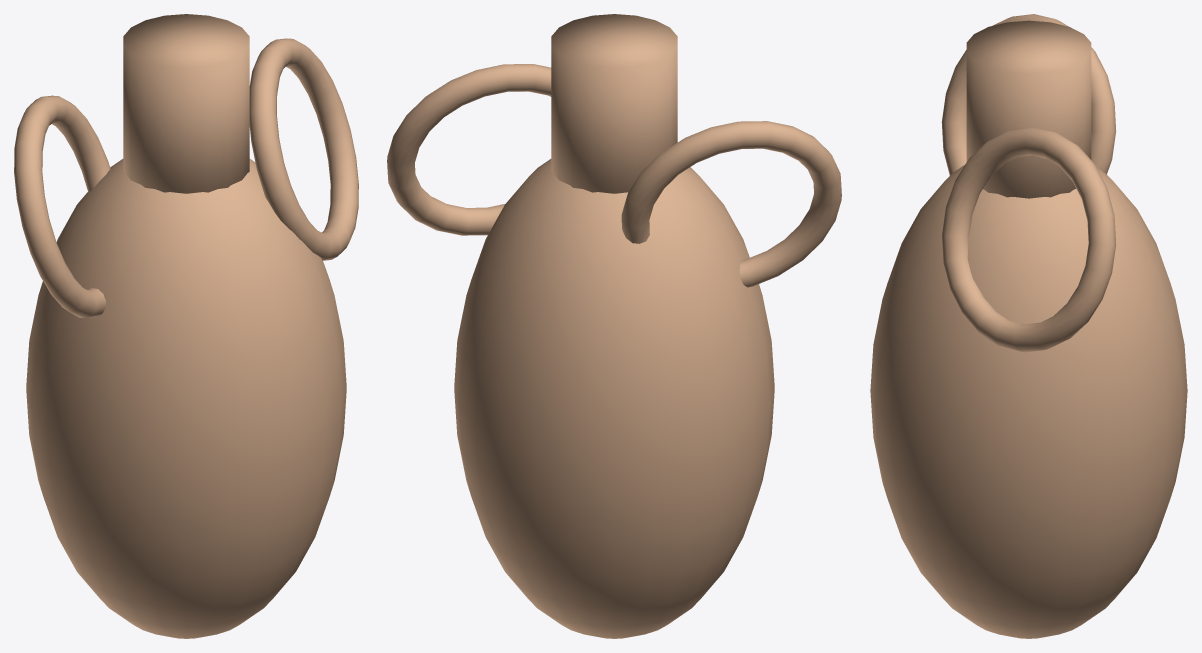
The model's file is amphora.glb.
The picture shows the model from 3 angles, left to right: view 1: azimuth 30°, elevation 25°; view 2: azimuth 150°, elevation 25°; view 3: azimuth 270°, elevation 25°; orthographic projection.
Visible parts, largest first — view 1: body, neck, h2, h1; view 2: body, neck, h1, h2; view 3: body, neck, h2, h1.
Boxes of the visible parts, x1,y1,x2,y2 form: body: [26, 159, 346, 638]; neck: [123, 14, 249, 193]; h2: [249, 38, 358, 260]; h1: [14, 95, 110, 318]; body: [454, 159, 774, 638]; neck: [551, 14, 677, 193]; h1: [621, 121, 841, 287]; h2: [387, 64, 551, 235]; body: [870, 165, 1187, 638]; neck: [966, 20, 1091, 198]; h2: [941, 127, 1116, 352]; h1: [941, 14, 1116, 175].
Size of the model in its own units: 1.25 by 1.83 by 0.9.
